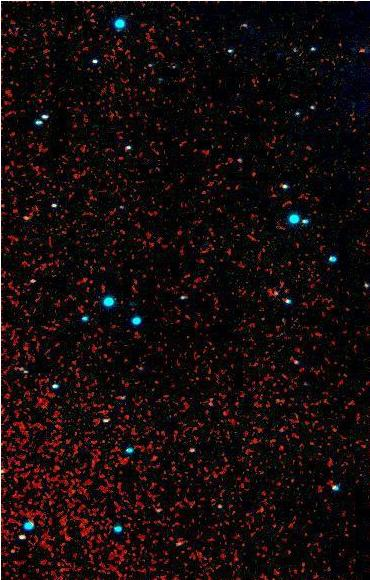star: (347, 35, 370, 65)
